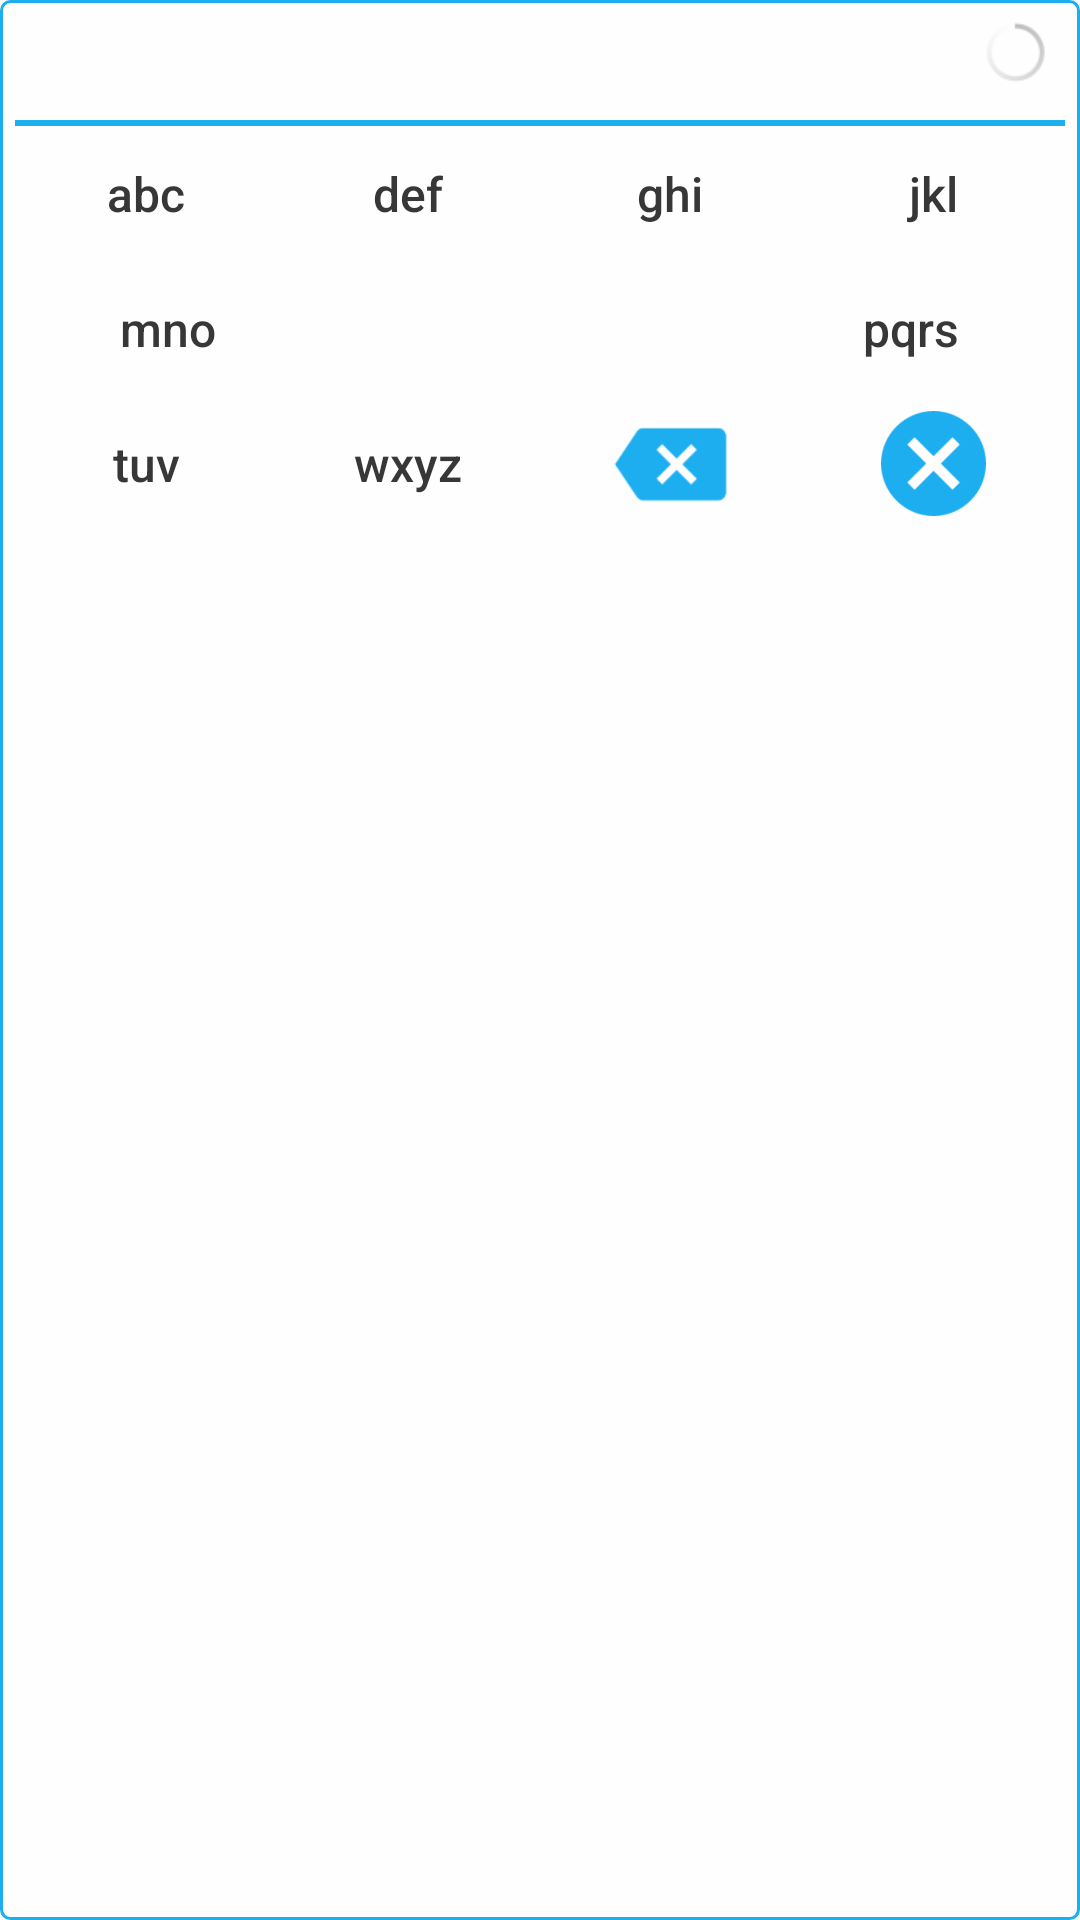

Point at icon controls on the screen. Image size 1080px×1920px, points as point (x, y).
backspace arrow: point (670, 465)
cancel: point (933, 463)
